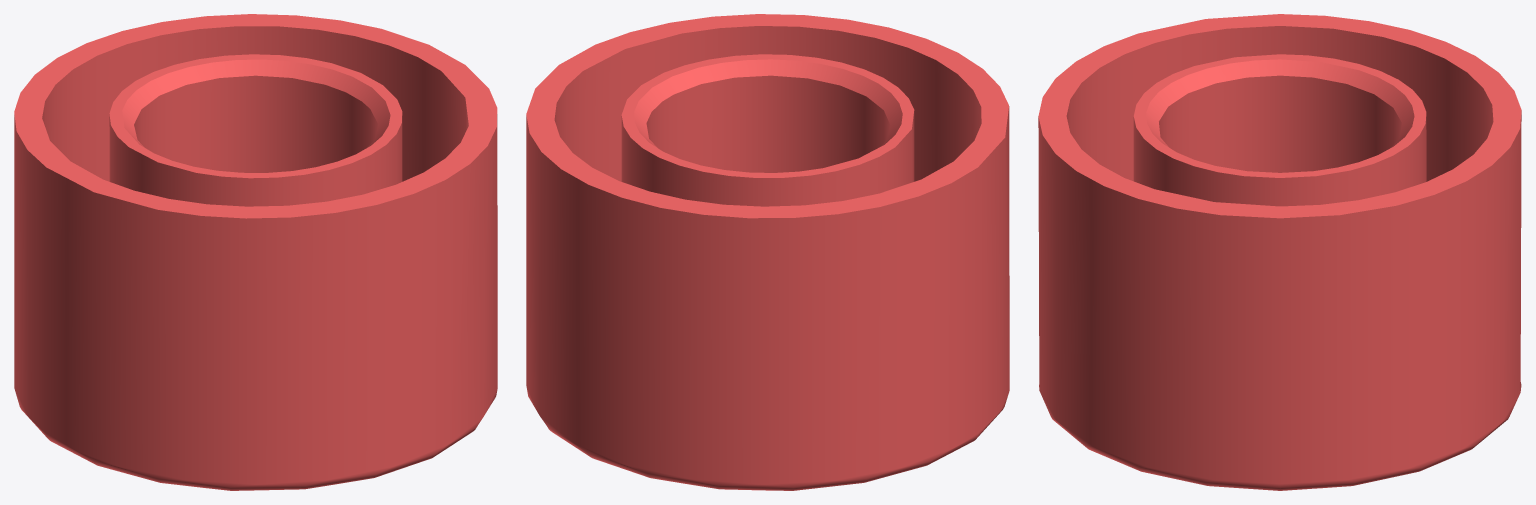
Rendered from Zylinder_Rot.fbx.
3 renders of one model, left to right at view 1: azimuth 30°, elevation 25°; view 2: azimuth 150°, elevation 25°; view 3: azimuth 270°, elevation 25°, orthographic.
Parts seen in each view (by area): view 1: et_0101_Zylinder_Rot_body1_2; view 2: et_0101_Zylinder_Rot_body1_2; view 3: et_0101_Zylinder_Rot_body1_2.
Boxes of the visible parts, <box> form: et_0101_Zylinder_Rot_body1_2: <box>14,14,497,490</box>; et_0101_Zylinder_Rot_body1_2: <box>526,14,1009,490</box>; et_0101_Zylinder_Rot_body1_2: <box>1038,14,1521,490</box>.
Size of the model in its own units: 3.96 by 2.5 by 3.96.
